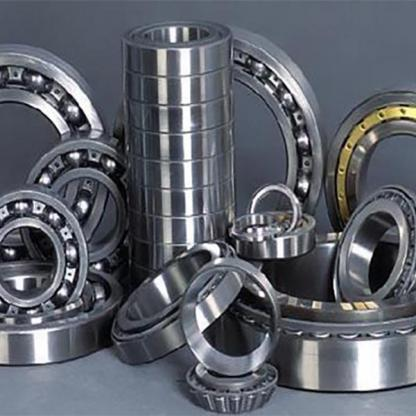FOD: (18, 130, 148, 289), (107, 236, 247, 370), (322, 84, 415, 259), (0, 258, 144, 370), (0, 184, 91, 329), (330, 179, 416, 316), (115, 16, 235, 78)
